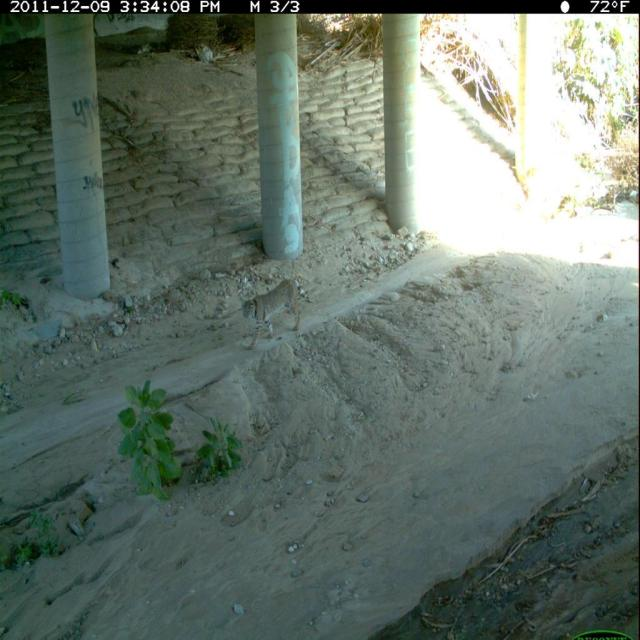bobcat: (239, 274, 306, 356)
